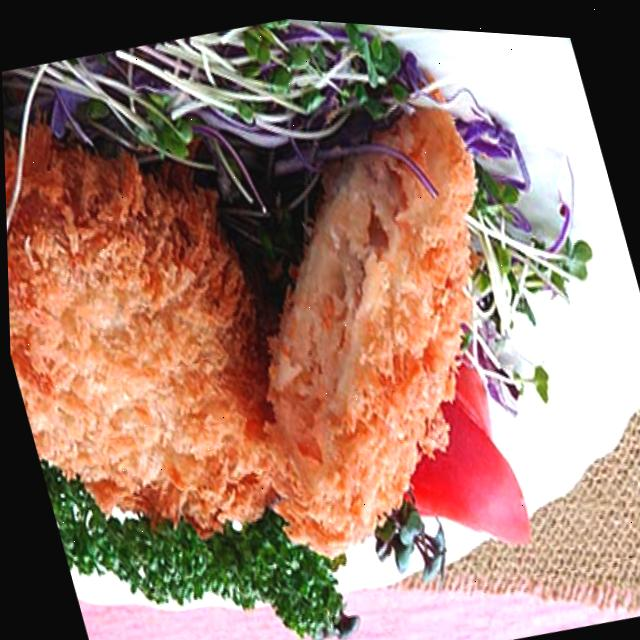炸货点心: (0, 5, 569, 628)
